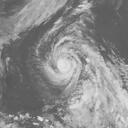cyclone: (32, 29, 94, 92)
